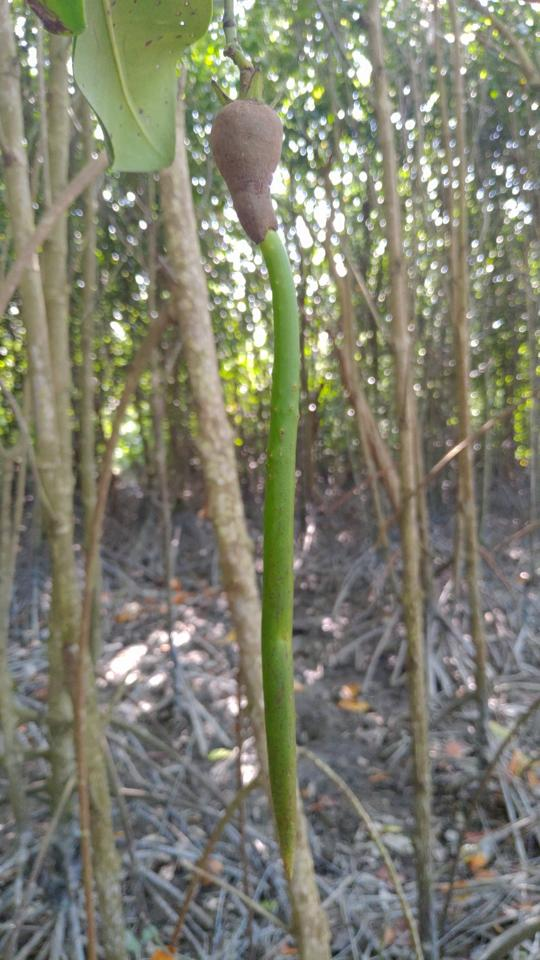mentah: (193, 78, 317, 878)
